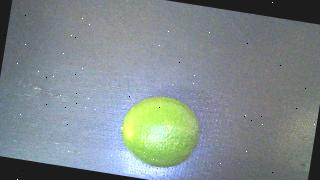EXPORTACION: (117, 91, 204, 172)
